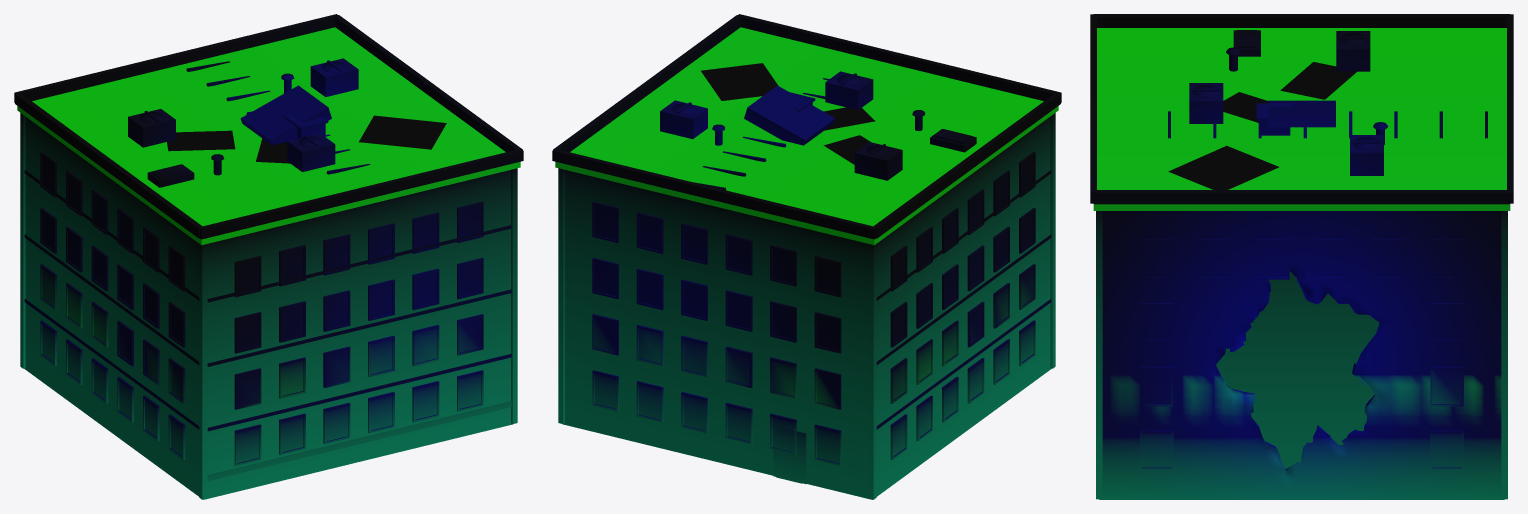
The model's file is city4storyc_damaged.glb.
3 renders of one model, left to right at view 1: azimuth 30°, elevation 25°; view 2: azimuth 150°, elevation 25°; view 3: azimuth 270°, elevation 25°, orthographic. The views are drawn at different scales.
Visible parts, largest first — view 1: lod0; view 2: lod0; view 3: lod0.
Part boxes in pixels (x1,y1,x2,y2): lod0: (14, 14, 523, 499); lod0: (552, 14, 1061, 499); lod0: (1090, 14, 1513, 499).
Size of what is drawn, in the model's own units: 18.7 by 15.95 by 18.7.
